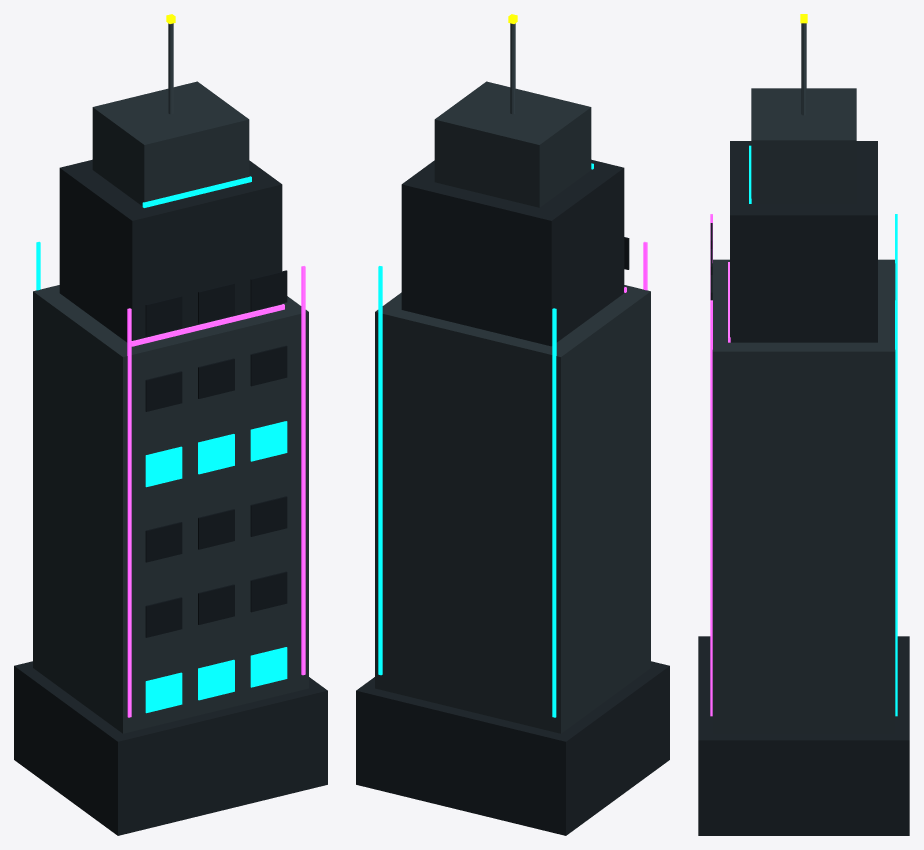
File: edificio_d.glb
3 views of the same model, side by side, from view 1: azimuth 30°, elevation 25°; view 2: azimuth 150°, elevation 25°; view 3: azimuth 270°, elevation 25° (orthographic).
Parts seen in each view (by area): view 1: Edificio_D_Mesh; view 2: Edificio_D_Mesh; view 3: Edificio_D_Mesh.
Part boxes in pixels (left/top/right/bottom): Edificio_D_Mesh: left=14, top=14, right=327, bottom=835; Edificio_D_Mesh: left=356, top=14, right=669, bottom=835; Edificio_D_Mesh: left=698, top=14, right=909, bottom=835.
Bounding box in the file's own units: 14 × 48.2 × 12.
